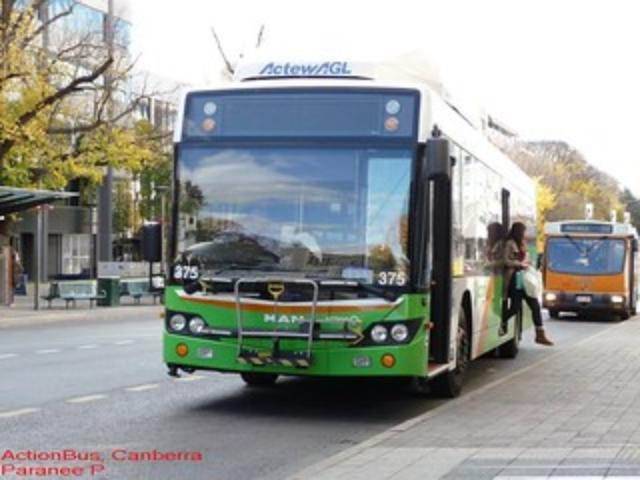bus: (160, 72, 542, 396), (538, 220, 640, 322)
